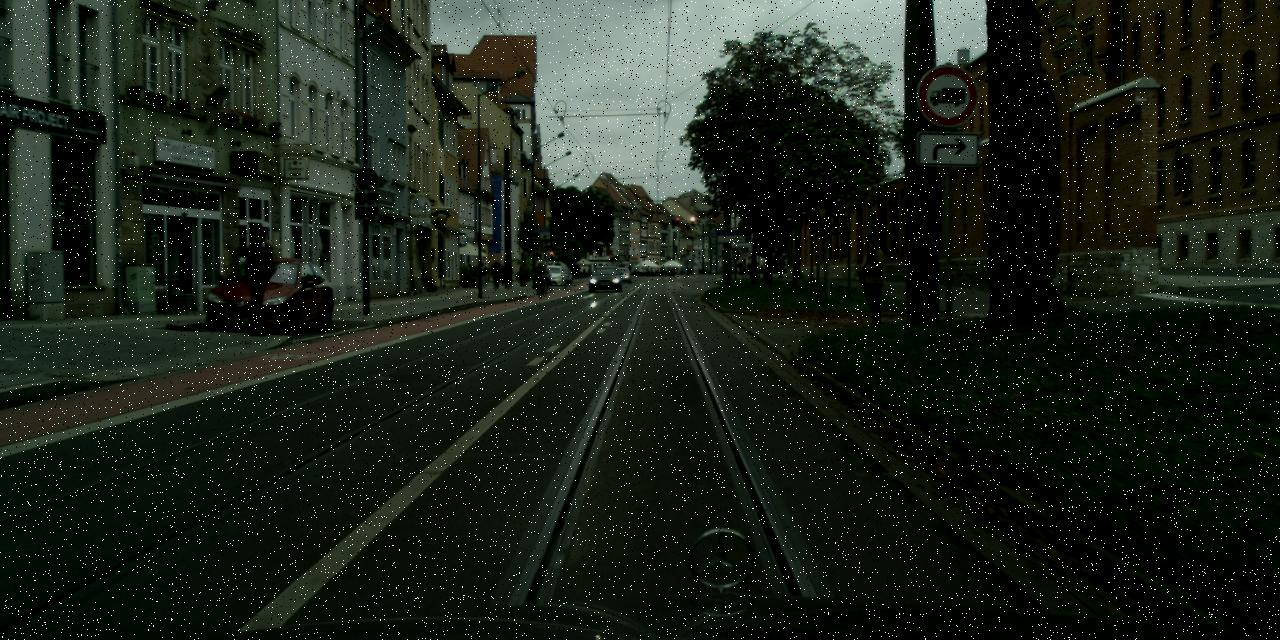ped: (238, 225, 282, 334), (854, 232, 894, 327), (532, 260, 546, 294), (490, 259, 502, 288), (540, 261, 550, 291), (478, 261, 488, 287), (775, 254, 784, 279), (498, 262, 506, 284)
